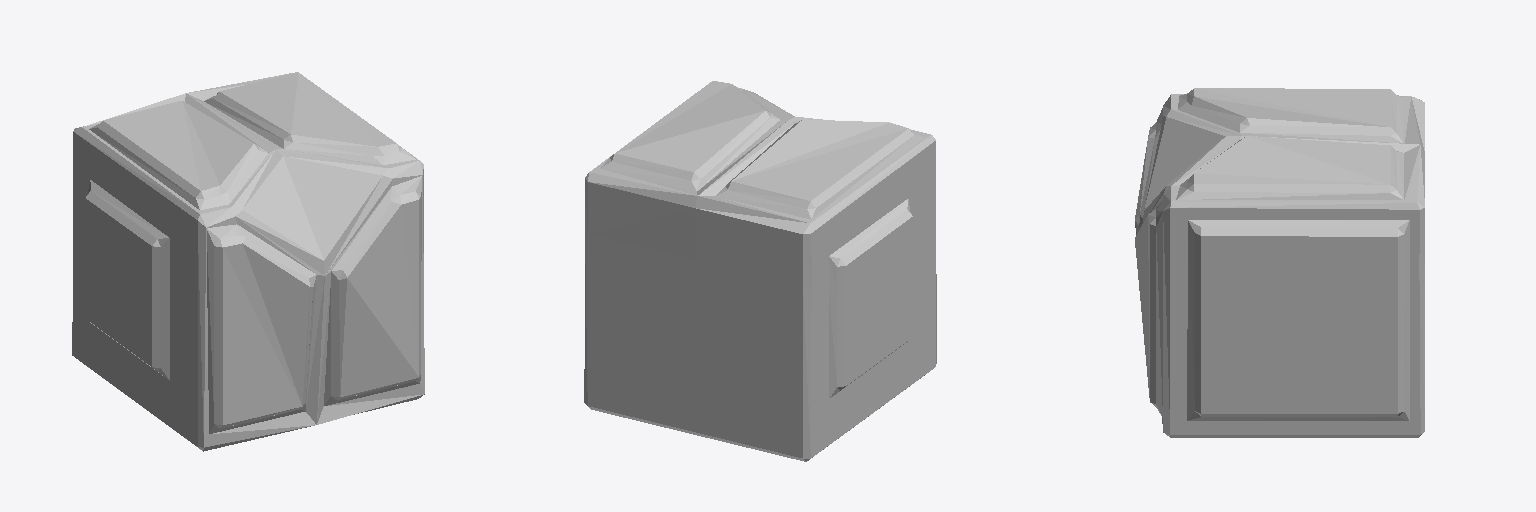
The model's file is crate.obj.
3 views of the same model, side by side, from view 1: azimuth 30°, elevation 25°; view 2: azimuth 150°, elevation 25°; view 3: azimuth 270°, elevation 25° (orthographic).
Visible parts, largest first — view 1: Cube.020_Cube.032; view 2: Cube.020_Cube.032; view 3: Cube.020_Cube.032.
Boxes of the visible parts, x1,y1,x2,y2 form: Cube.020_Cube.032: [72, 72, 424, 451]; Cube.020_Cube.032: [584, 81, 936, 461]; Cube.020_Cube.032: [1135, 88, 1424, 437].
Size of the model in its own units: 1.1 by 1.09 by 1.11.